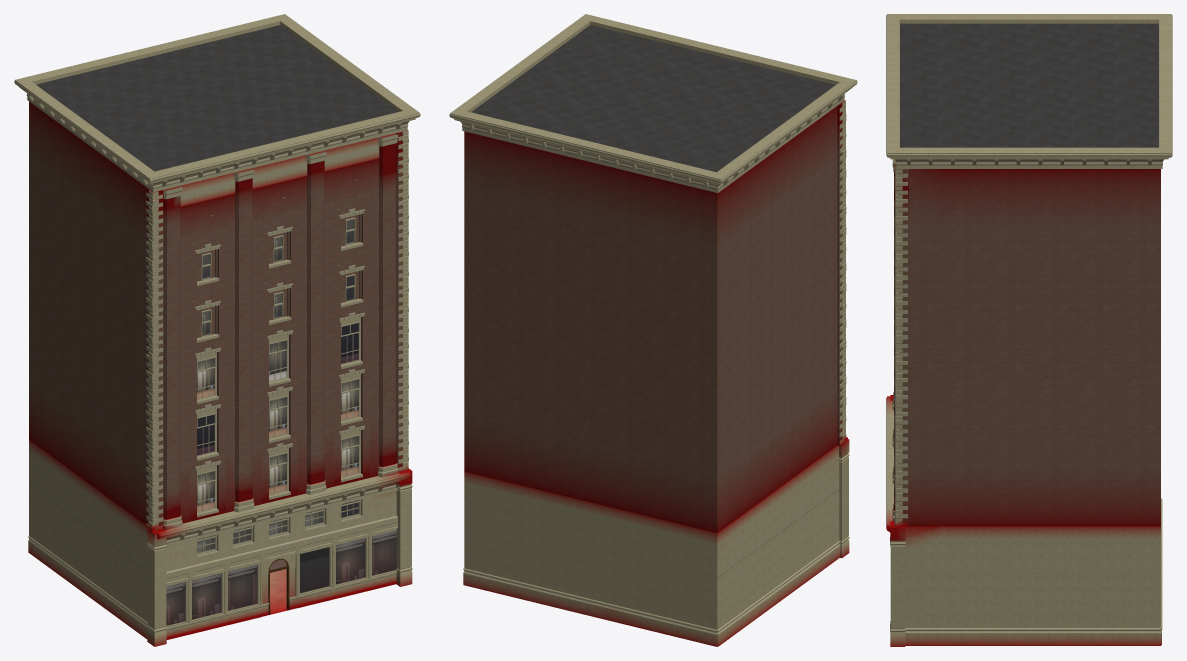
Rendered from Building_Medium_2_001.gltf.
The picture shows the model from 3 angles, left to right: view 1: azimuth 30°, elevation 25°; view 2: azimuth 150°, elevation 25°; view 3: azimuth 270°, elevation 25°; orthographic projection. The views are drawn at different scales.
Visible parts, largest first — view 1: Building_Medium_2.001; view 2: Building_Medium_2.001; view 3: Building_Medium_2.001.
Boxes of the visible parts, left/top/right/bottom form: Building_Medium_2.001: left=14, top=14, right=420, bottom=646; Building_Medium_2.001: left=449, top=14, right=857, bottom=646; Building_Medium_2.001: left=886, top=14, right=1172, bottom=646.
Bounding box in the file's own units: 15.06 × 25.01 × 13.06.
12 materials, 11 textured.
